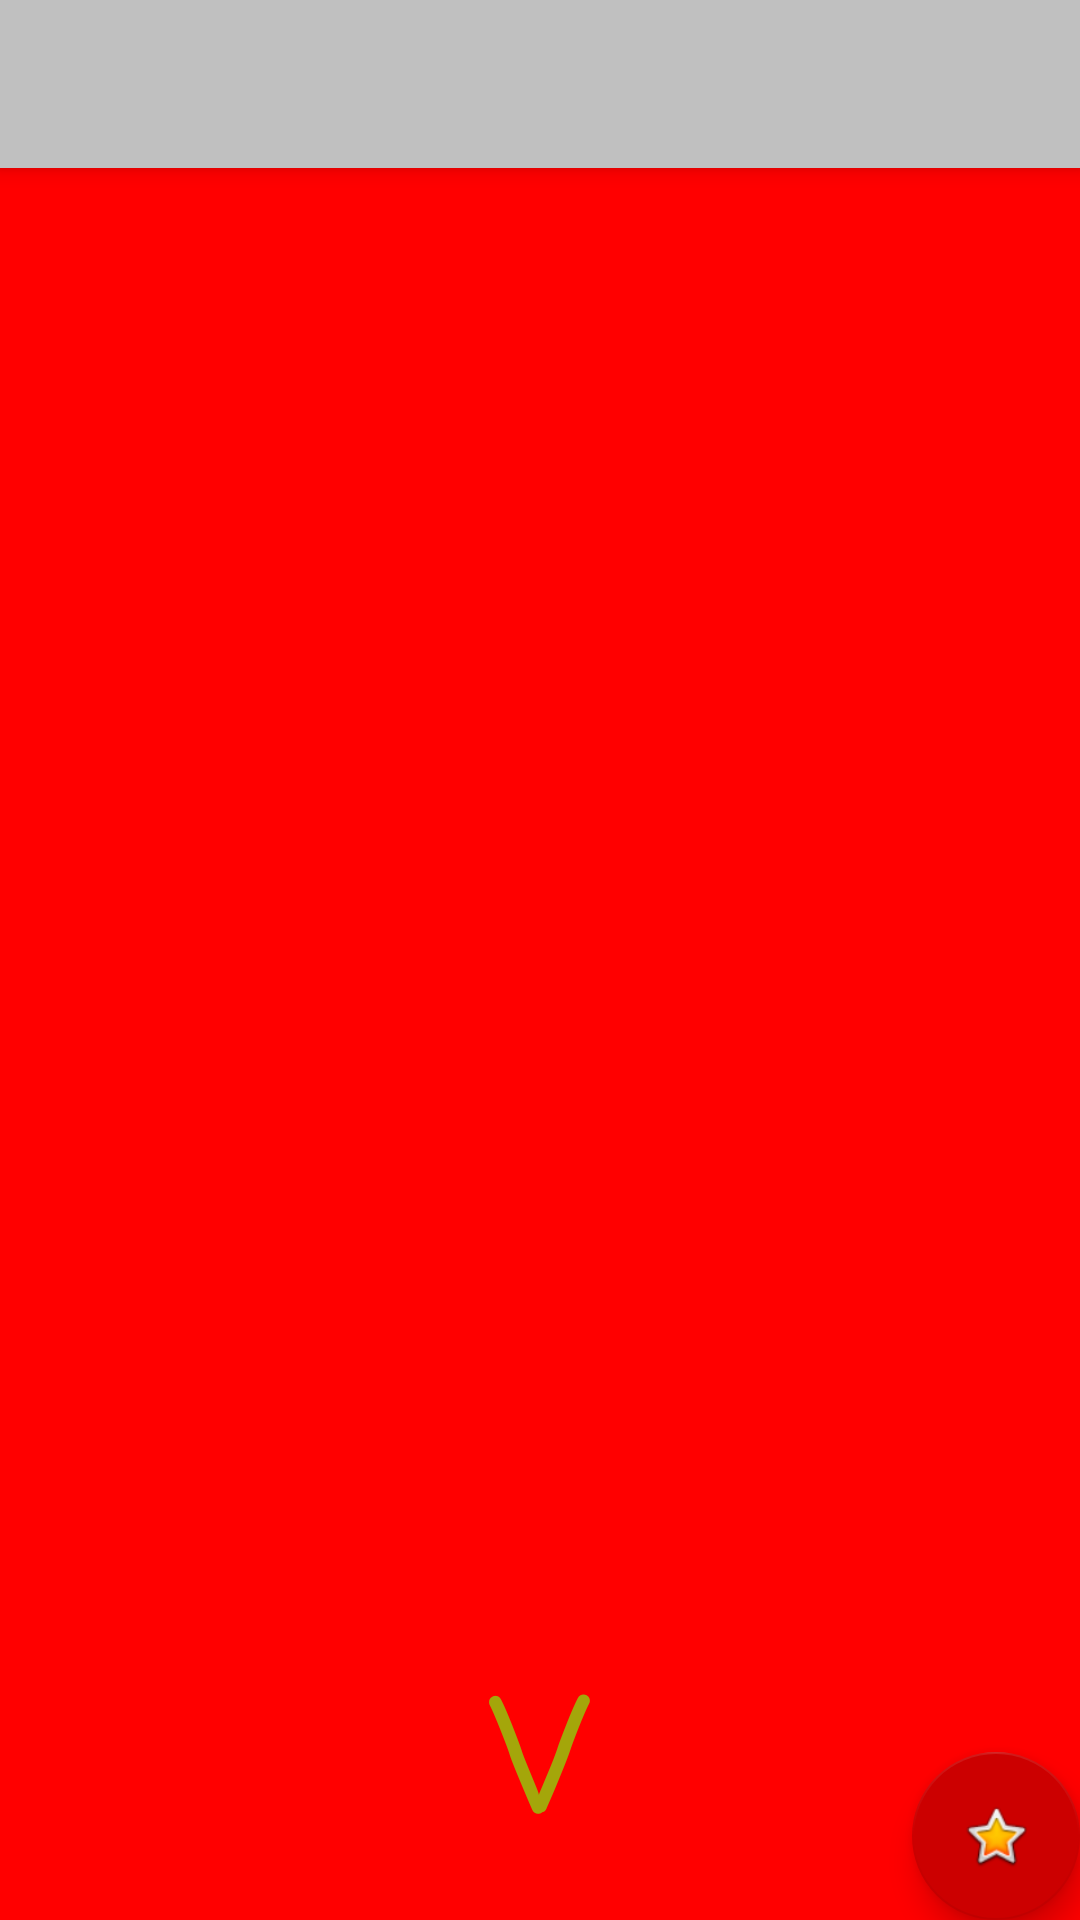

Icon bounding boxes for this 1080px×1920px phone screenshot, format [left=x1, top=y1, right=x2, bottom=y2]:
star on: [left=912, top=1752, right=1080, bottom=1920]
